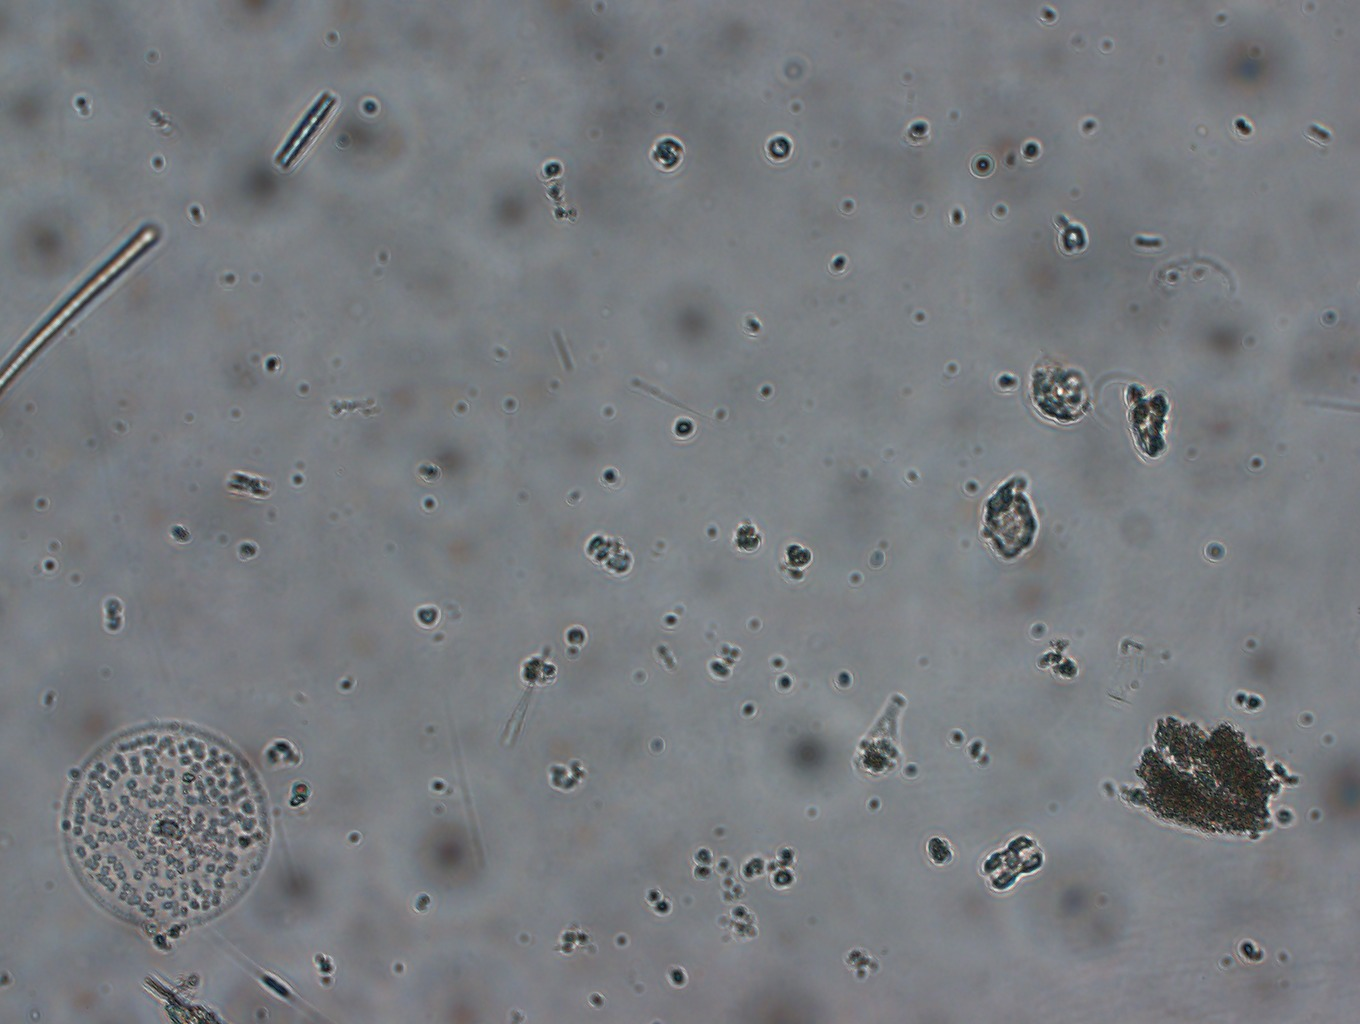coscinodiscus: (48, 706, 281, 945)
